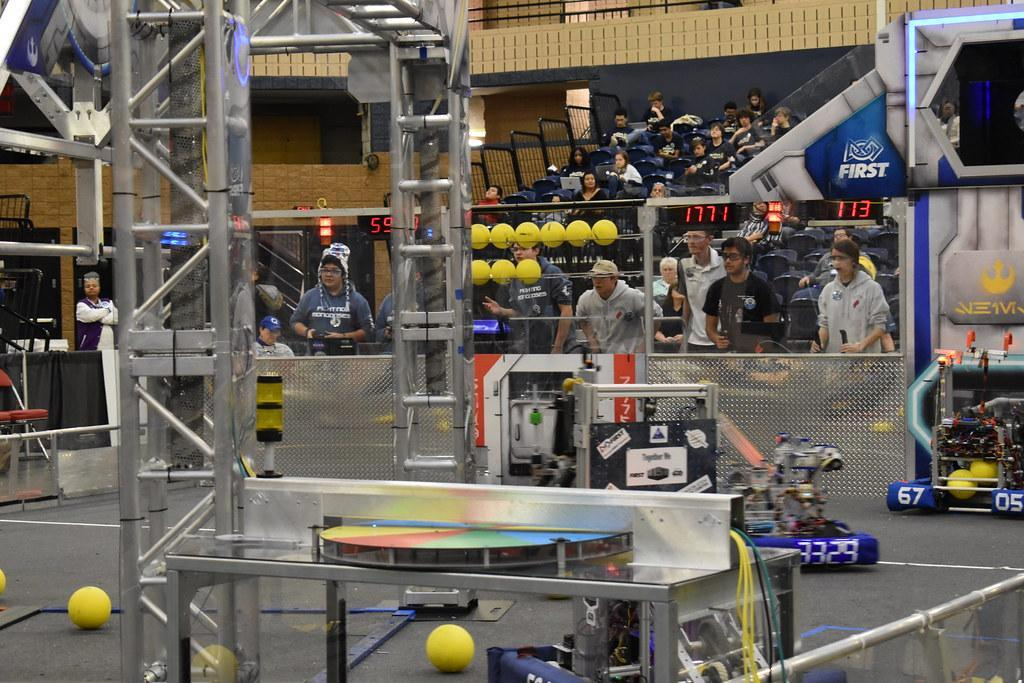robot: (483, 376, 856, 683), (882, 319, 1024, 523), (700, 429, 885, 576)
